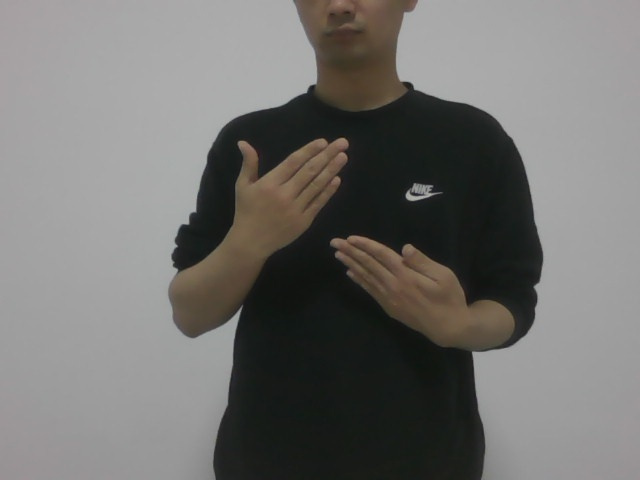tea: (217, 119, 473, 352)
